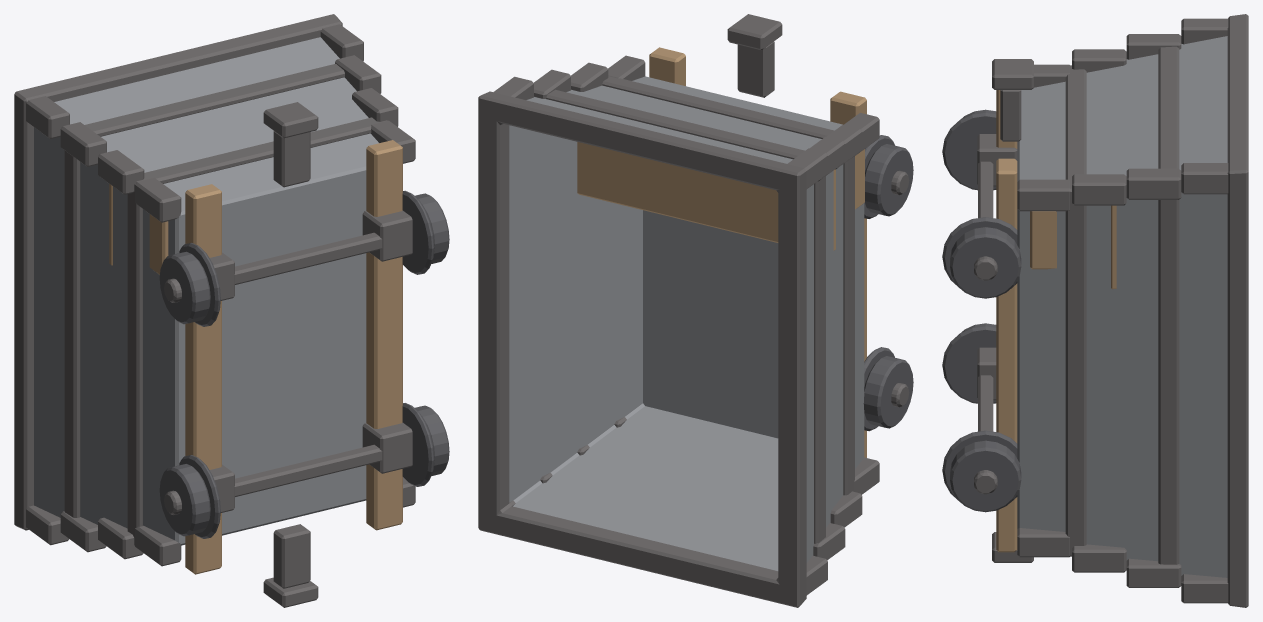
File: cart_held.gltf
3 renders of one model, left to right at view 1: azimuth 30°, elevation 25°; view 2: azimuth 150°, elevation 25°; view 3: azimuth 270°, elevation 25°, orthographic.
Parts seen in each view (by area): view 1: carts_cart_held; view 2: carts_cart_held; view 3: carts_cart_held.
Part boxes in pixels (left/top/right/bottom): carts_cart_held: left=14, top=14, right=449, bottom=607; carts_cart_held: left=478, top=14, right=913, bottom=607; carts_cart_held: left=942, top=14, right=1248, bottom=607.
Bounding box in the file's own units: 0.125 × 0.18 × 0.1024.
